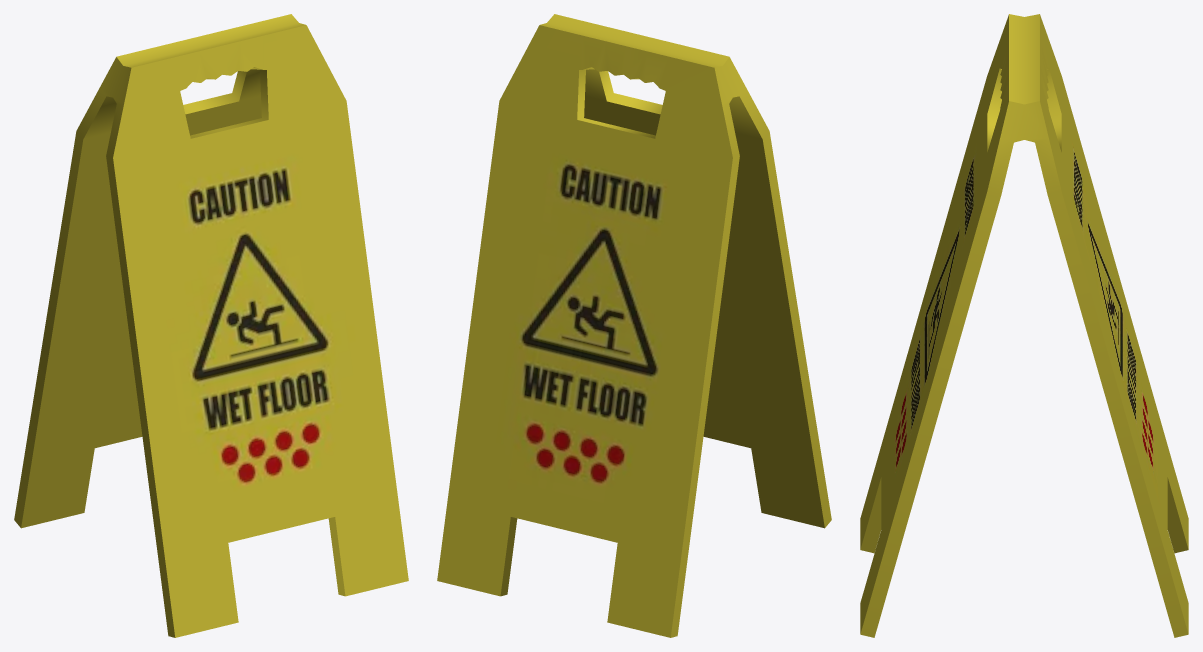
The model's file is WetFloorSign_01.glb.
3 views of the same model, side by side, from view 1: azimuth 30°, elevation 25°; view 2: azimuth 150°, elevation 25°; view 3: azimuth 270°, elevation 25° (orthographic).
Visible parts, largest first — view 1: WetFloorSign_01; view 2: WetFloorSign_01; view 3: WetFloorSign_01.
Boxes of the visible parts, <box> form: WetFloorSign_01: <box>14,14,408,637</box>; WetFloorSign_01: <box>437,14,831,637</box>; WetFloorSign_01: <box>860,14,1188,637</box>.
Size of the model in its own units: 0.3 by 0.6295 by 0.3585.
1 material, 1 textured.
